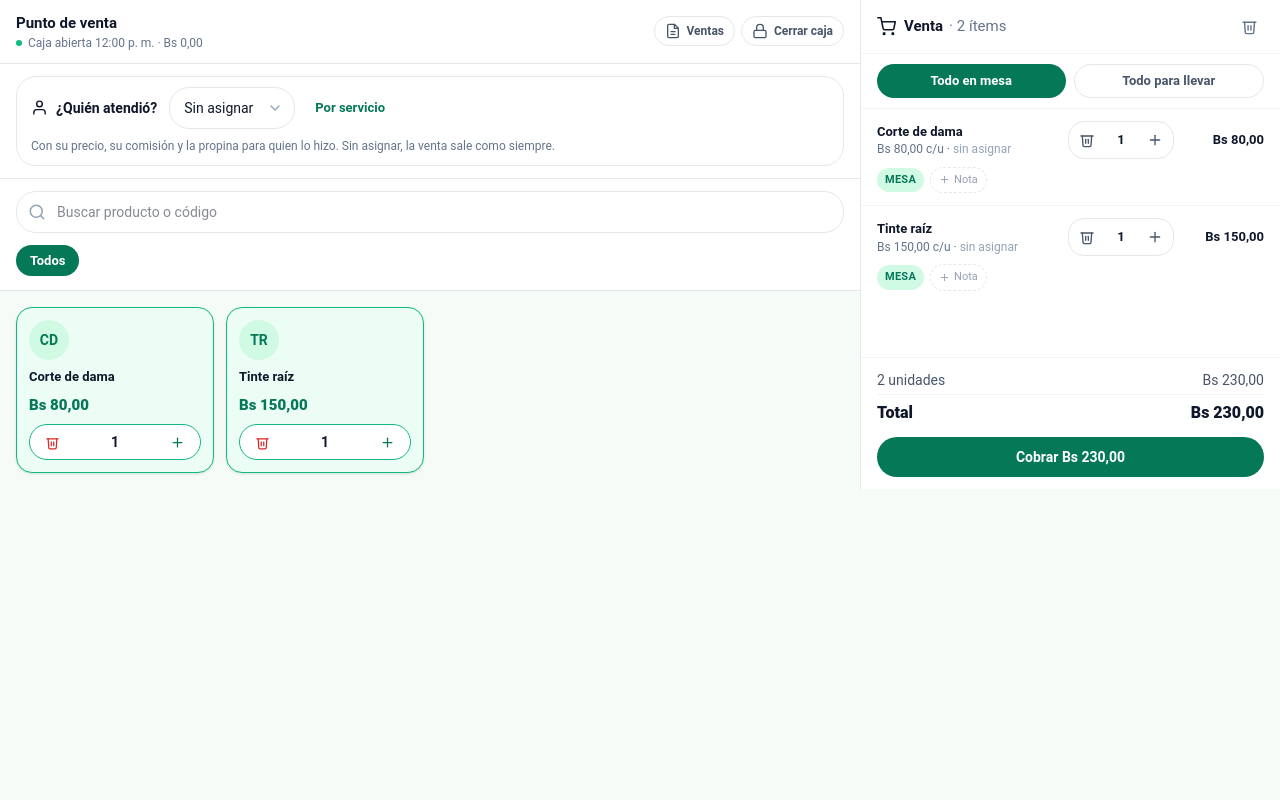
Test: N2-13: venta directa con profesional › QA PER-07: arriba dice "Varios" si por servicio quedaron distintos, y elegir ahí vale para todos
This screenshot has width=1280, height=800.
Select "Carla" in the dropdown named "Profesional de la venta" at {"x": 232, "y": 108}, box [169, 86, 295, 128]
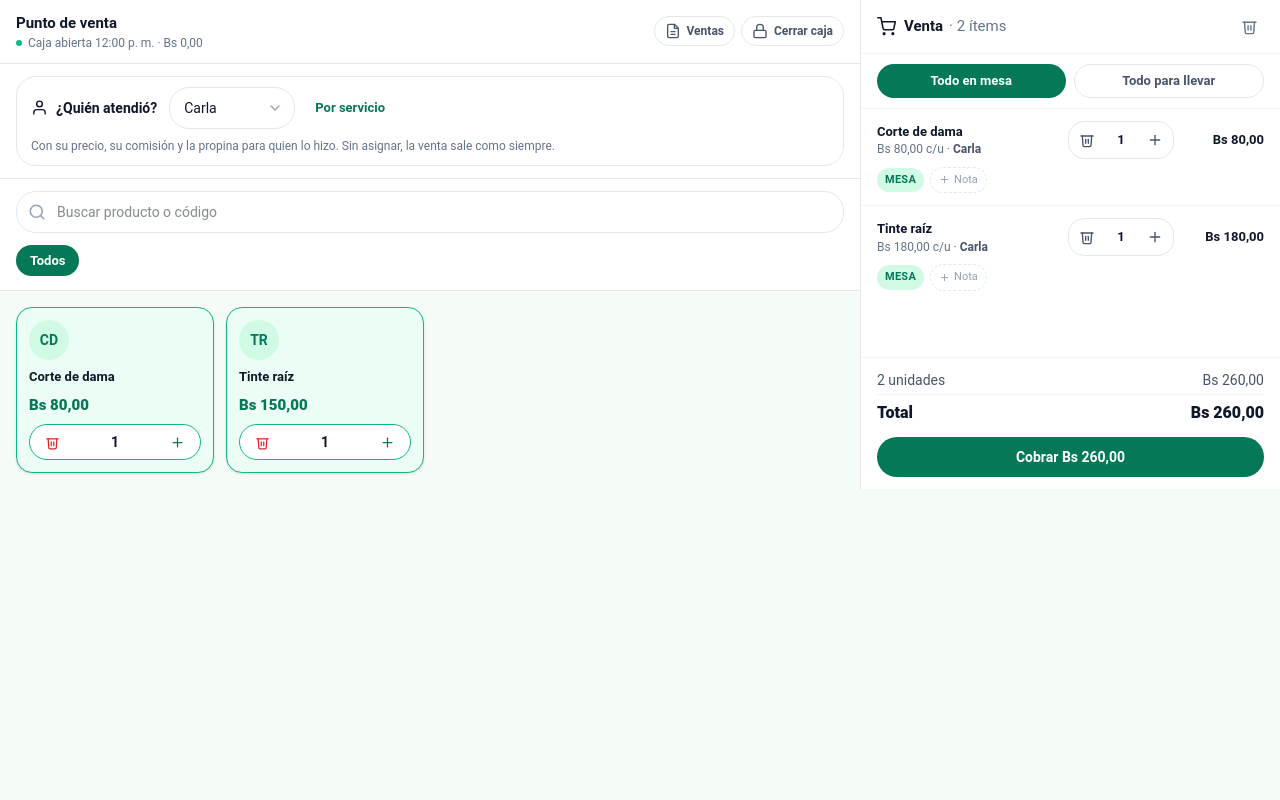
Click the button "Por servicio" at {"x": 350, "y": 108}, box [307, 94, 393, 121]
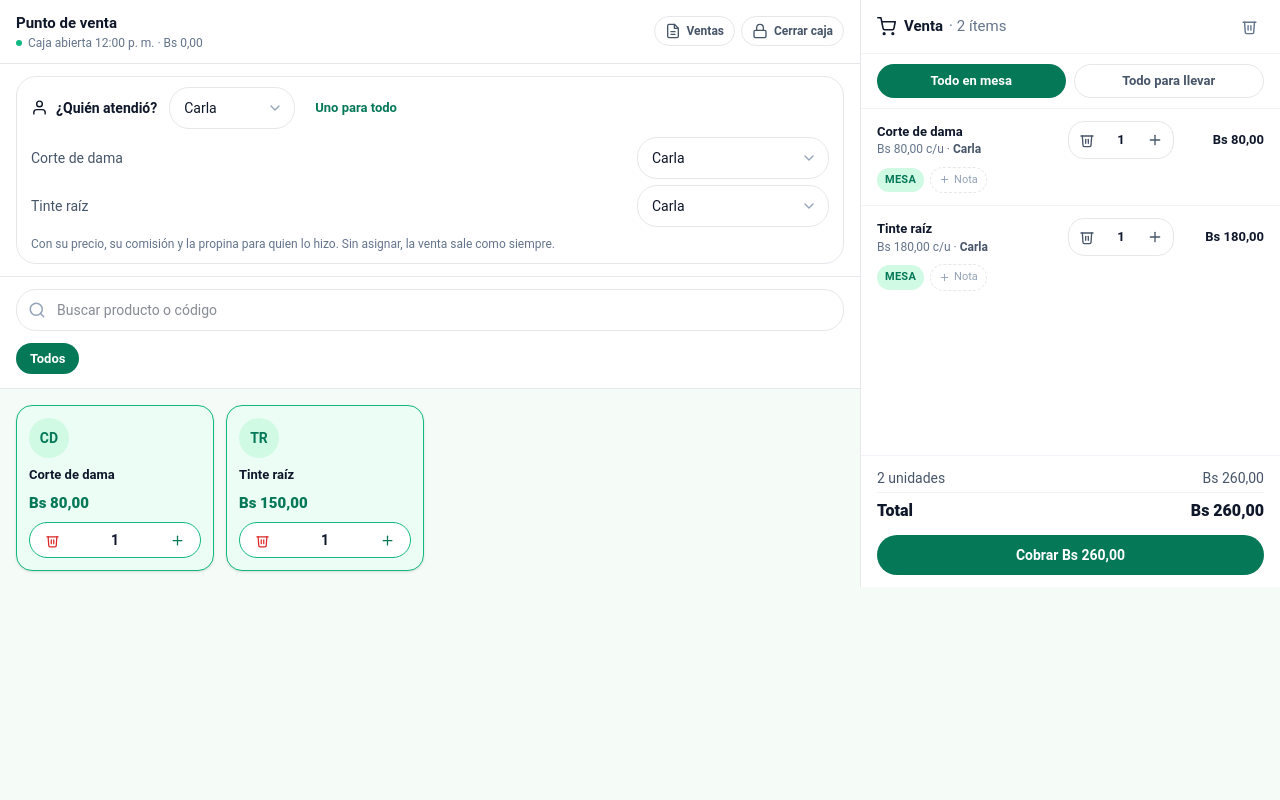
Select "Sofía" in the dropdown named "Profesional de Corte de dama" at {"x": 733, "y": 158}, box [637, 136, 829, 178]
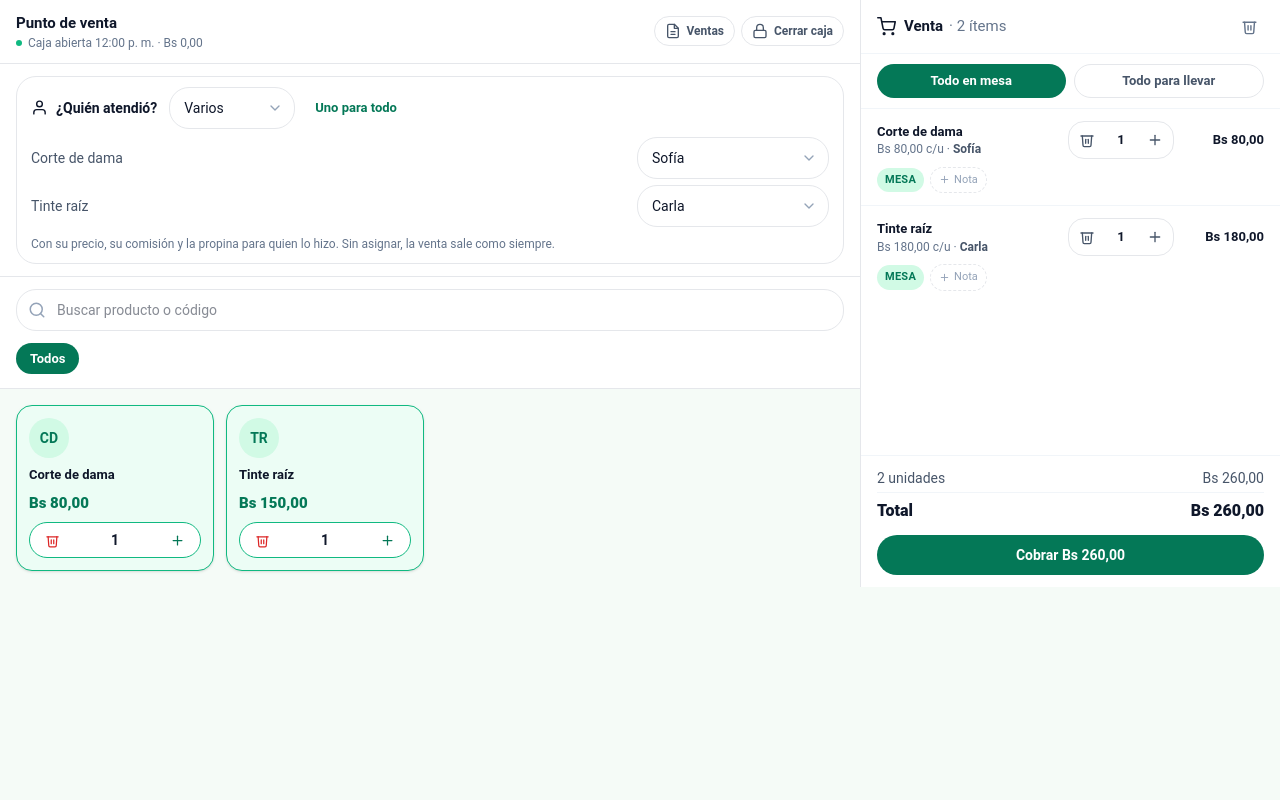
Select "Sofía" in the dropdown named "Profesional de la venta" at {"x": 232, "y": 108}, box [169, 86, 295, 128]
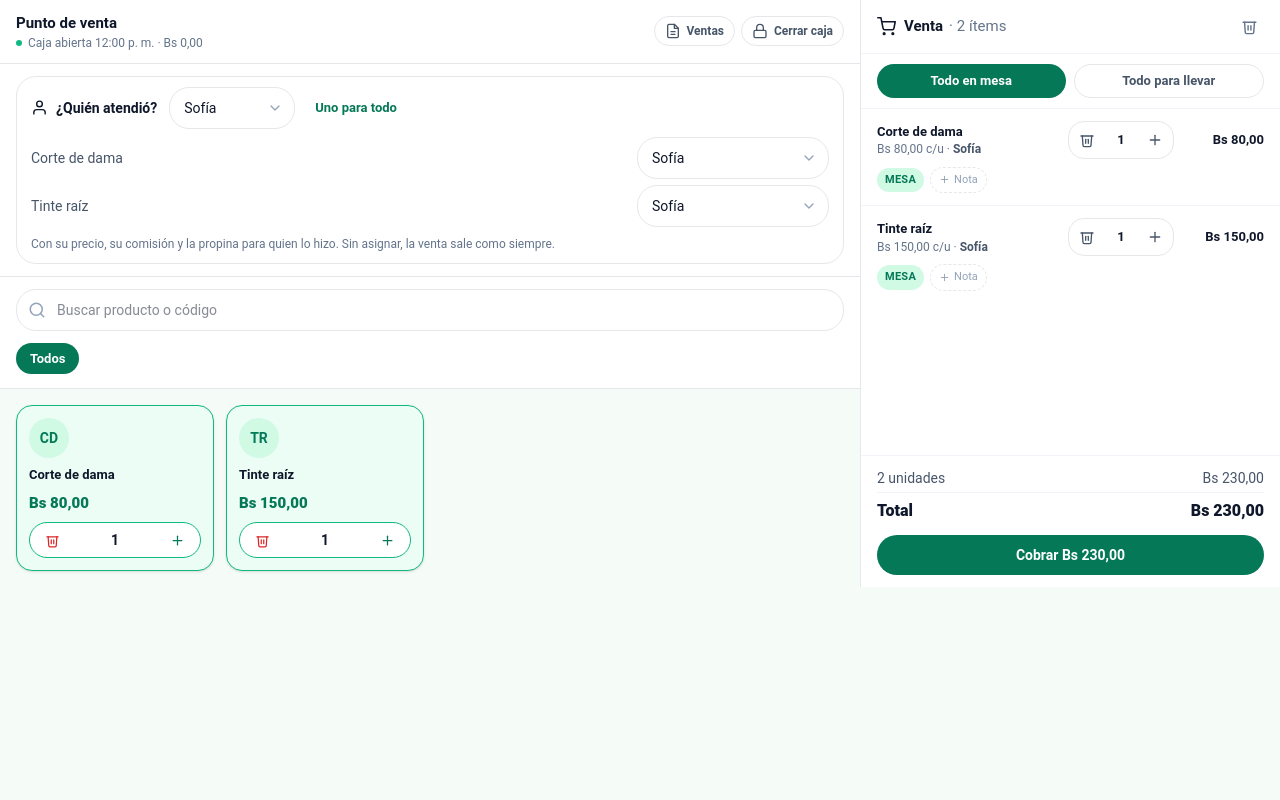
Now the dropdown named "Profesional de Tinte raíz" shows "Sofía", box [637, 184, 829, 226]
